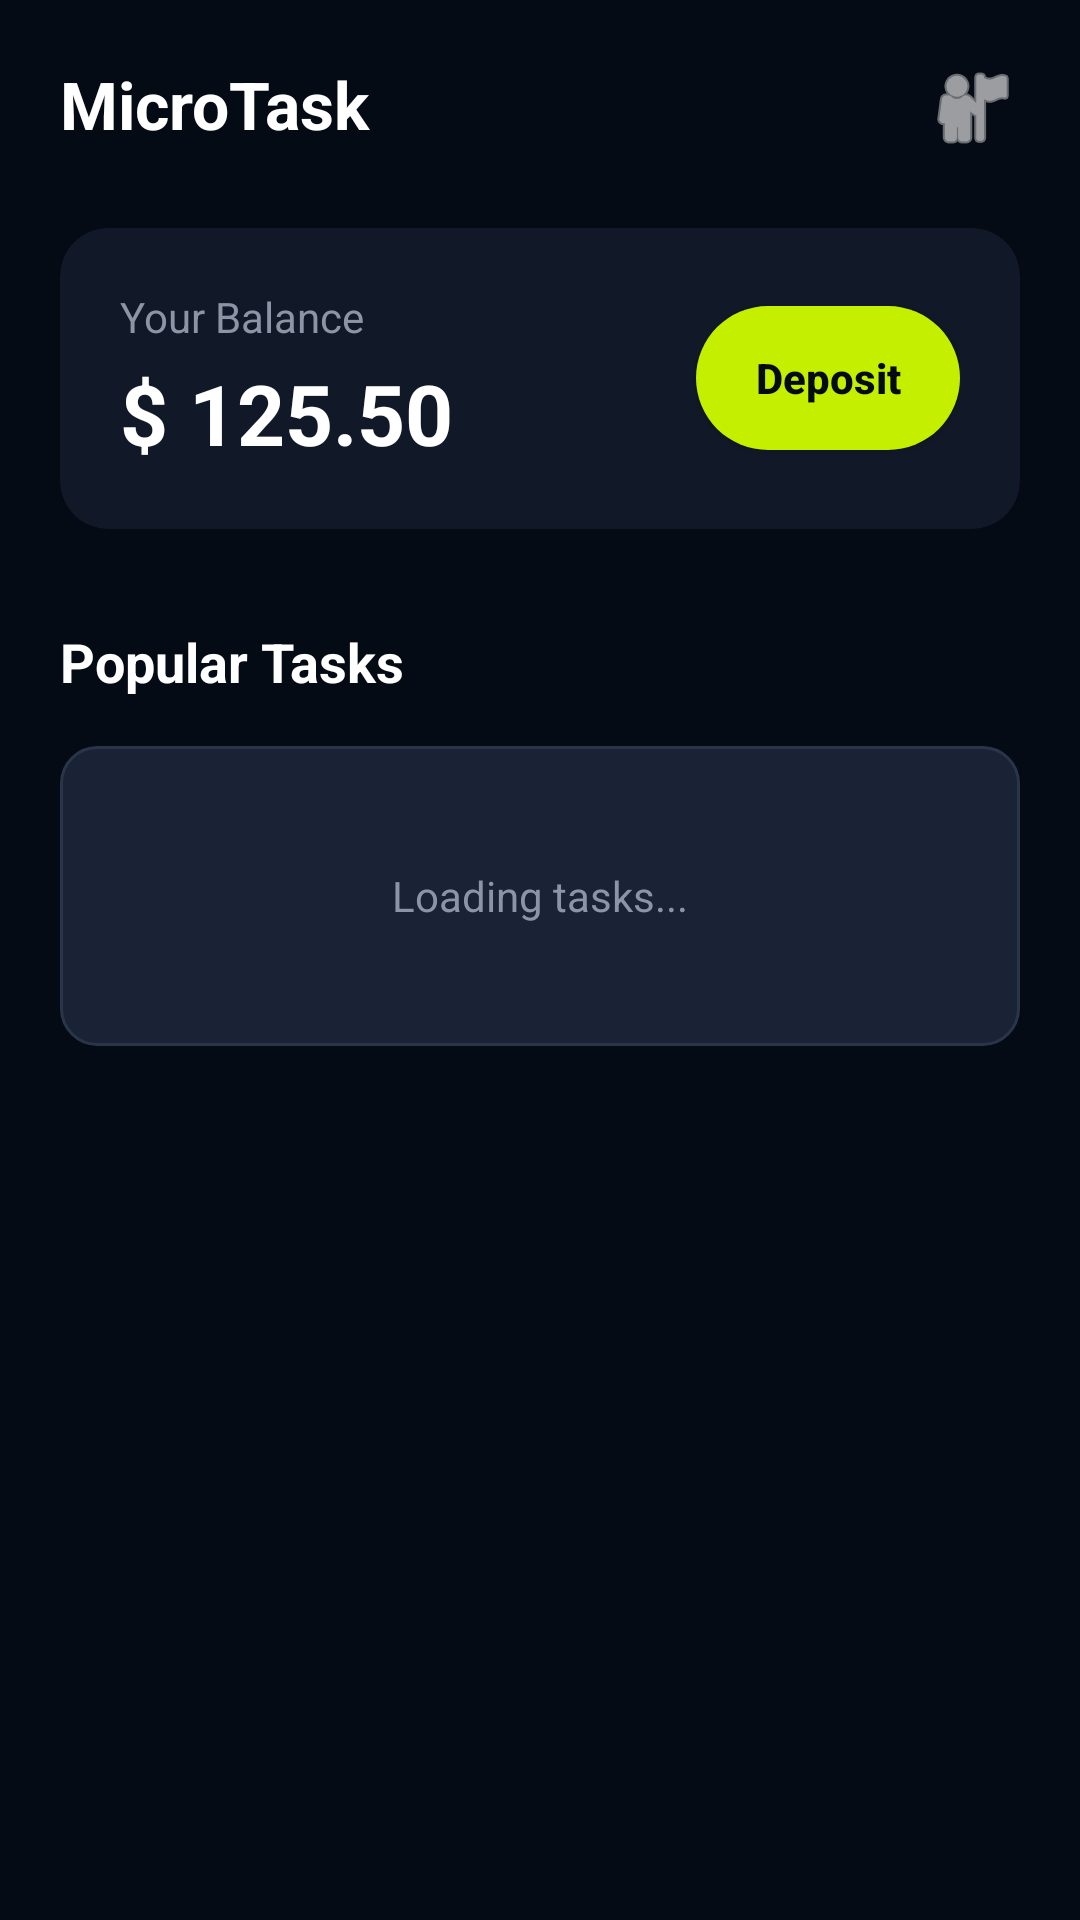

Screen size 1080w x 1920h. Icon name, then its center in pixels as point (x, y):
myplaces: point (973, 108)
